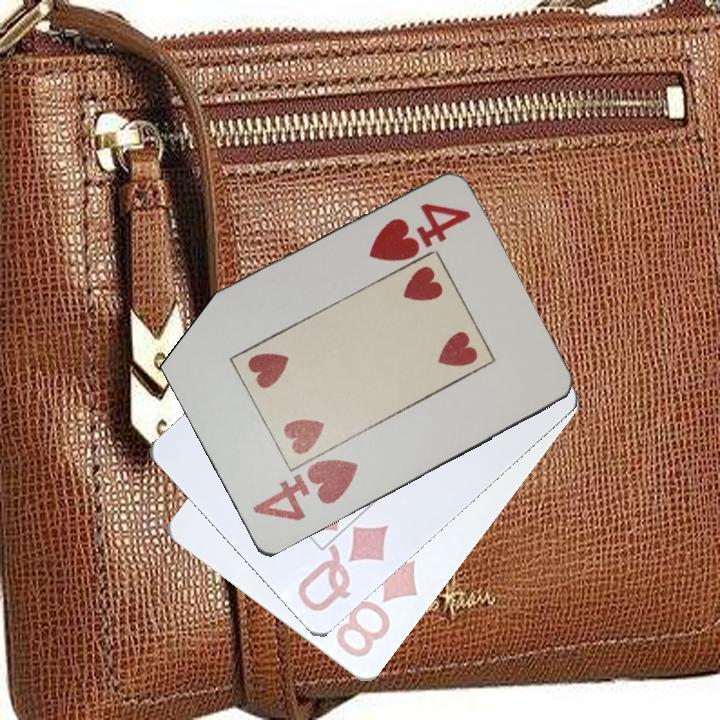4h: (249, 454, 361, 525), (364, 200, 474, 266)
8d: (331, 557, 421, 662)
Qd: (294, 522, 392, 616)
